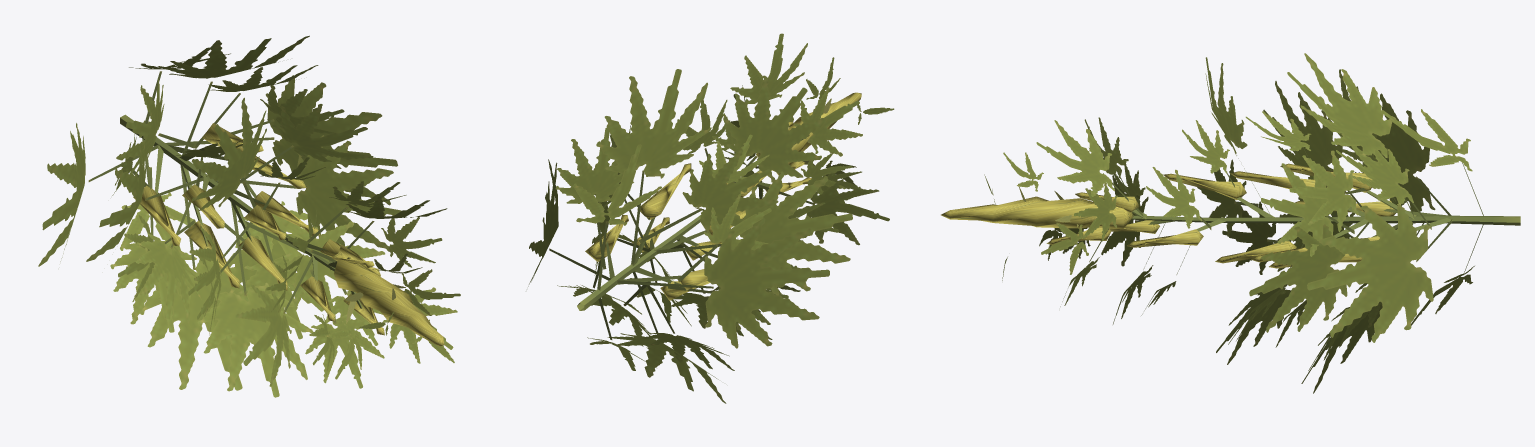
Rendered from p_gold_landrace_flowering_c1_cards.obj.
The picture shows the model from 3 angles, left to right: view 1: azimuth 30°, elevation 25°; view 2: azimuth 150°, elevation 25°; view 3: azimuth 270°, elevation 25°; orthographic projection. The views are drawn at different scales.
Bounding box in the file's own units: 1.53 × 1.51 × 2.12.
1 material, 1 textured.
